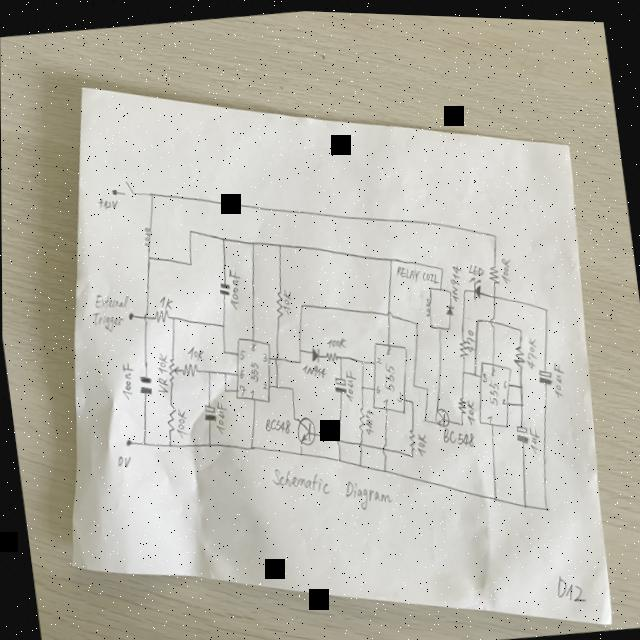capacitor: (536, 360, 554, 387), (331, 370, 348, 396), (200, 398, 217, 423), (137, 372, 153, 395), (513, 419, 528, 441), (217, 279, 231, 295)
crossover: (486, 309, 496, 324), (272, 350, 281, 366), (380, 438, 388, 454), (140, 307, 148, 322), (384, 305, 392, 316), (335, 431, 341, 444), (358, 437, 363, 447)
diode: (465, 271, 485, 299), (441, 298, 454, 315), (309, 343, 320, 360)
inductor: (423, 288, 434, 318), (141, 223, 152, 248)
junction: (147, 188, 155, 198), (166, 439, 173, 448), (144, 252, 151, 261), (219, 233, 226, 242), (220, 345, 227, 354), (205, 365, 212, 374), (380, 463, 387, 472), (356, 458, 363, 467), (490, 289, 497, 298), (205, 438, 212, 447), (186, 258, 193, 266), (276, 239, 283, 247), (249, 237, 256, 245), (247, 441, 254, 449), (542, 500, 549, 508), (520, 497, 527, 505), (517, 378, 524, 386), (359, 379, 365, 388), (436, 321, 443, 328), (336, 453, 342, 461), (518, 396, 524, 404), (491, 228, 497, 236), (543, 301, 549, 309), (517, 322, 523, 330), (359, 355, 365, 363), (493, 490, 498, 499), (187, 226, 193, 233), (219, 320, 225, 327), (288, 382, 294, 389), (296, 355, 302, 362), (273, 380, 279, 387), (446, 321, 452, 328), (140, 439, 146, 446), (337, 351, 343, 358), (474, 314, 479, 322), (170, 314, 176, 320), (413, 317, 418, 324), (298, 299, 303, 306), (222, 384, 227, 391), (447, 285, 452, 292), (424, 383, 429, 389), (460, 365, 465, 371), (421, 414, 426, 420), (408, 395, 413, 401), (438, 262, 443, 268), (222, 369, 227, 375), (387, 253, 392, 259), (438, 282, 443, 288), (409, 449, 414, 455), (458, 417, 463, 423), (297, 448, 302, 453), (472, 368, 476, 374), (429, 319, 432, 326), (463, 284, 467, 289), (428, 281, 432, 286), (297, 345, 301, 349), (412, 378, 416, 382), (292, 414, 294, 418)
resistor: (164, 350, 182, 388), (163, 399, 179, 432), (271, 287, 285, 317), (510, 339, 525, 365), (152, 305, 170, 324), (486, 259, 501, 281), (355, 402, 366, 431), (456, 332, 469, 356), (180, 359, 198, 376), (406, 424, 417, 449), (324, 346, 339, 361), (456, 391, 466, 413)
switch: (118, 179, 135, 196)
terminal: (123, 437, 132, 446), (109, 184, 116, 195), (126, 310, 133, 321)
text: (267, 450, 394, 520), (393, 254, 438, 285), (90, 305, 126, 334), (91, 288, 131, 313), (440, 421, 475, 448), (225, 266, 244, 310), (117, 359, 136, 400), (445, 260, 464, 297), (262, 412, 292, 435), (341, 365, 359, 400), (550, 356, 566, 394), (211, 398, 228, 432), (380, 356, 397, 390), (523, 331, 539, 364), (496, 251, 513, 282), (173, 406, 189, 438), (300, 359, 326, 378), (95, 194, 119, 211), (486, 374, 500, 403), (184, 342, 205, 360), (527, 422, 540, 450), (280, 286, 293, 313), (362, 405, 375, 432), (414, 428, 428, 453), (155, 349, 169, 373), (325, 333, 346, 348), (246, 358, 259, 381), (115, 452, 131, 469), (155, 374, 169, 393), (464, 324, 475, 348), (467, 258, 484, 273), (464, 396, 475, 419), (158, 293, 173, 309), (238, 381, 246, 394), (238, 346, 245, 359), (384, 341, 391, 353), (395, 386, 401, 400), (374, 352, 382, 362), (381, 394, 388, 405), (249, 338, 256, 349), (260, 350, 267, 361), (238, 366, 244, 378), (374, 381, 381, 391), (486, 409, 492, 420), (248, 385, 254, 396), (489, 361, 494, 373), (481, 368, 486, 379), (502, 374, 506, 384), (500, 393, 505, 401), (261, 380, 266, 388)
transistor: (294, 413, 316, 445), (433, 402, 450, 425)
